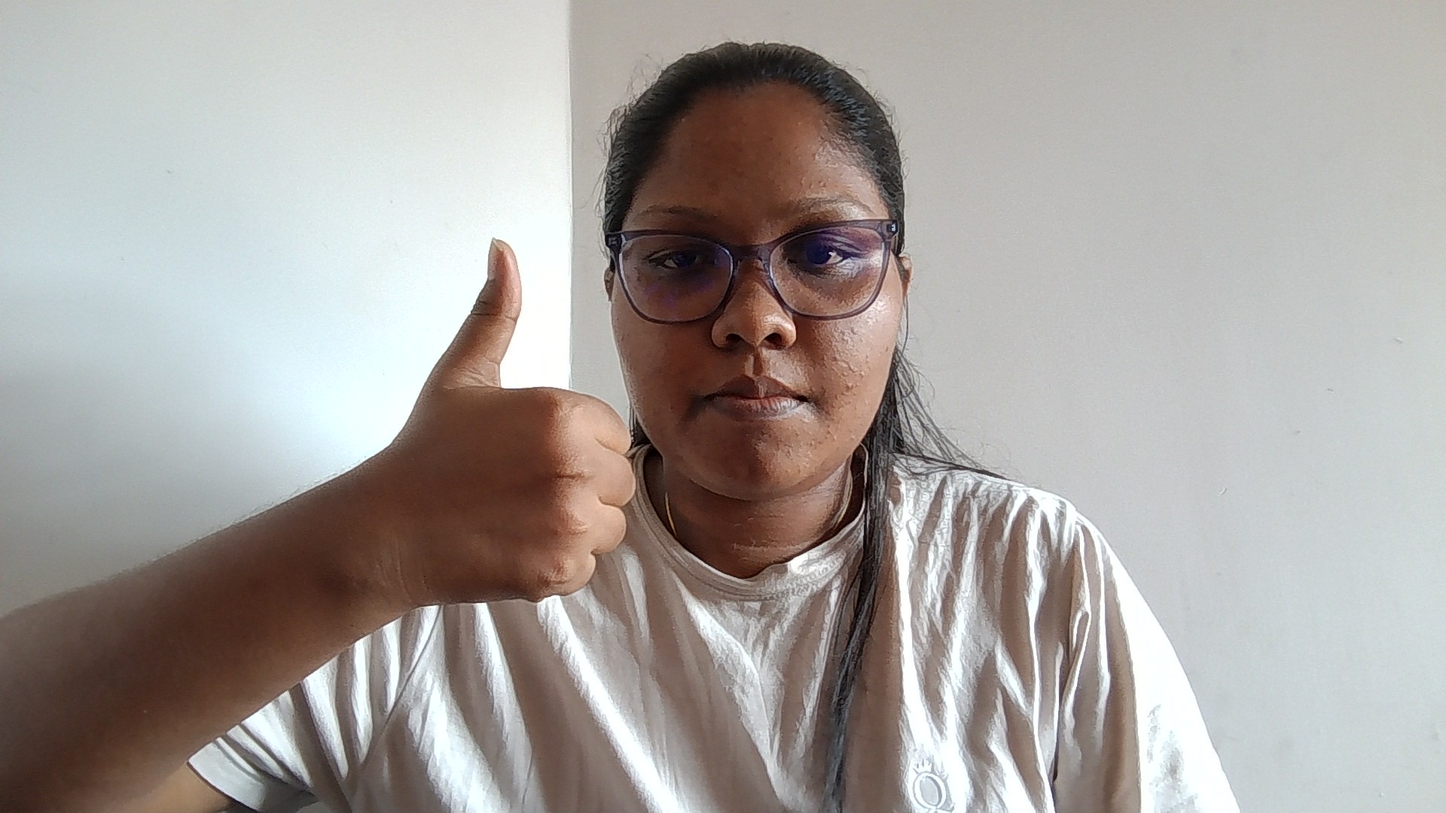Thumbs Up: (365, 188, 664, 641)
